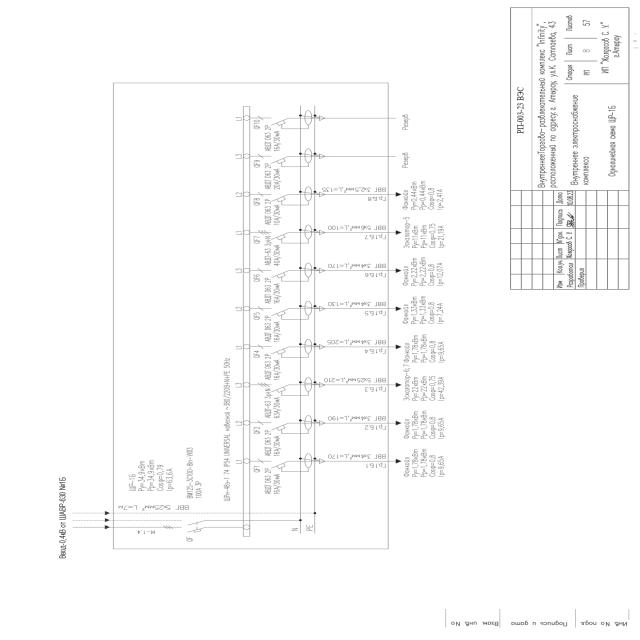-: (185, 445, 204, 500), (222, 411, 232, 502), (262, 276, 282, 306), (262, 430, 282, 460), (262, 315, 282, 345), (262, 163, 282, 193), (262, 197, 282, 227), (262, 352, 282, 382), (263, 467, 283, 497), (264, 388, 284, 418), (261, 124, 281, 154), (263, 236, 283, 266)
QF: (176, 518, 208, 535)
QFD: (267, 184, 314, 207), (267, 338, 313, 361), (267, 262, 314, 284), (266, 148, 313, 170), (266, 300, 313, 322), (268, 108, 314, 130), (267, 414, 313, 436), (267, 452, 313, 474), (270, 377, 313, 398), (269, 223, 312, 244)
